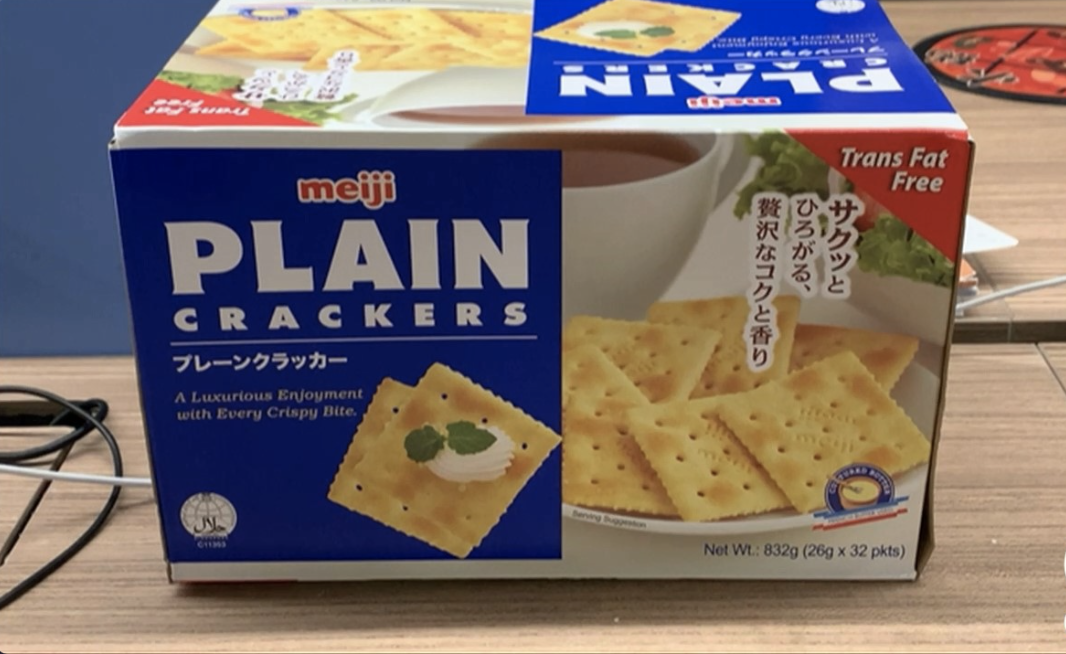crackers_850g: (147, 146, 930, 569)
